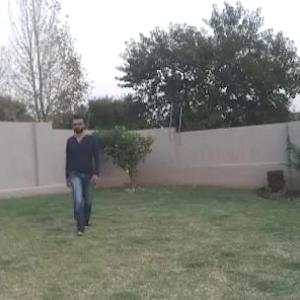follow: (64, 117, 100, 232)
